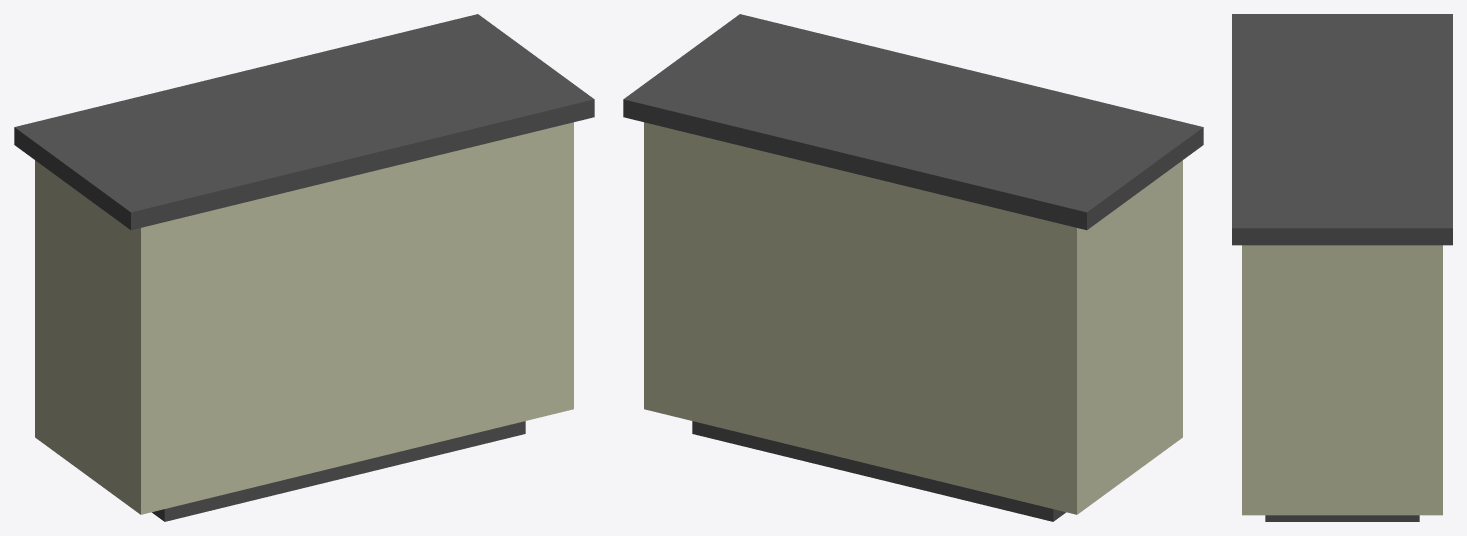
File: new_table.fbx
The picture shows the model from 3 angles, left to right: view 1: azimuth 30°, elevation 25°; view 2: azimuth 150°, elevation 25°; view 3: azimuth 270°, elevation 25°; orthographic projection. The views are drawn at different scales.
Parts seen in each view (by area): view 1: Plane; view 2: Plane; view 3: Plane.
Boxes of the visible parts, box(x1,y1,x2,y2) form: Plane: box(14, 14, 594, 521); Plane: box(623, 14, 1203, 521); Plane: box(1232, 14, 1452, 521).
Size of the model in its own units: 334 by 231 by 146.
